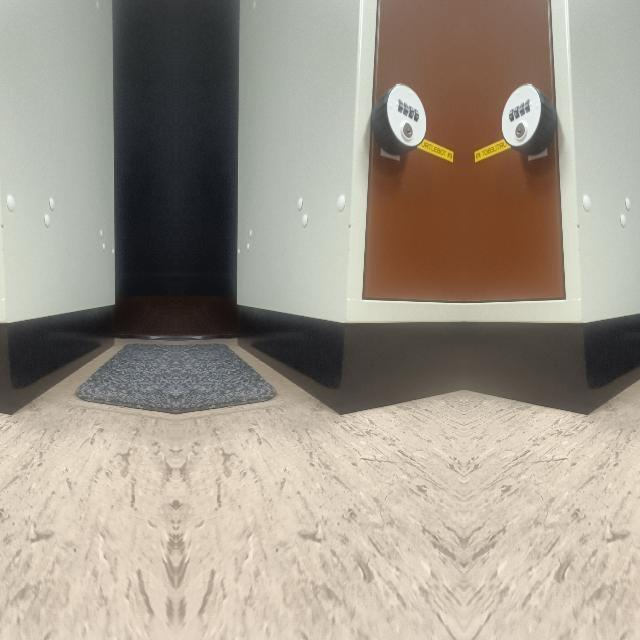obstacle: (226, 86, 464, 420), (463, 85, 640, 420), (0, 85, 124, 420)
